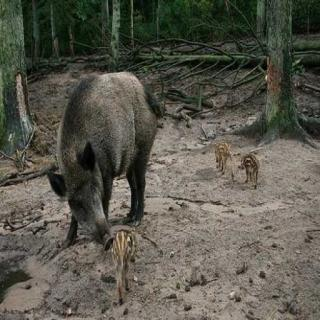Pig: (36, 54, 183, 239), (104, 217, 144, 306), (206, 146, 238, 186), (238, 148, 264, 194)
